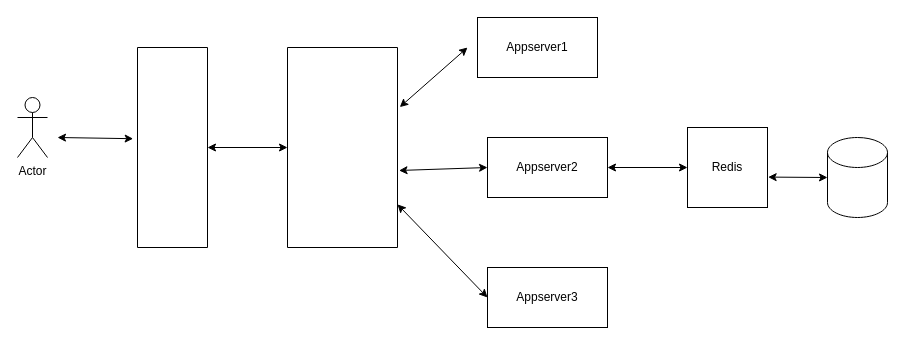
The diagram is 905 pixels wide and 345 high, and some of its shapes have lost their labels. The centre of each missing label's shape, as x and y in pixels:
"API gateway" belongs at point 172,147.
"Load Balancer" belongs at point 342,147.
"SQL DB" belongs at point 857,177.
